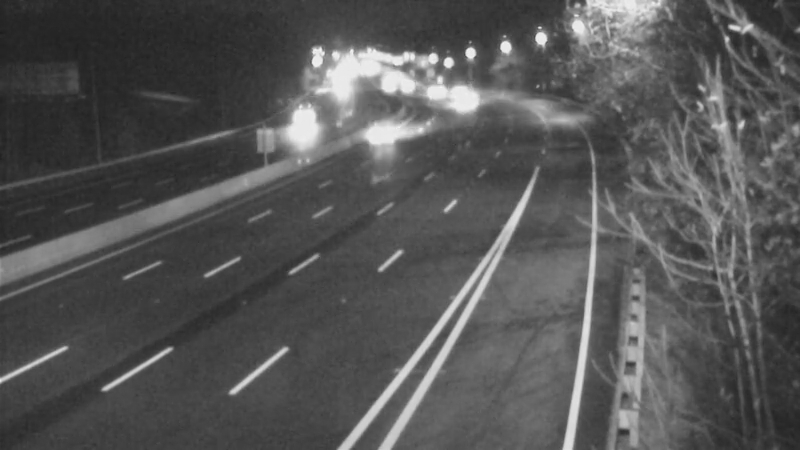vehicle: (379, 59, 429, 109), (364, 63, 414, 113), (410, 64, 460, 114), (433, 65, 483, 115), (443, 72, 493, 122), (362, 108, 412, 158), (276, 105, 326, 155)
